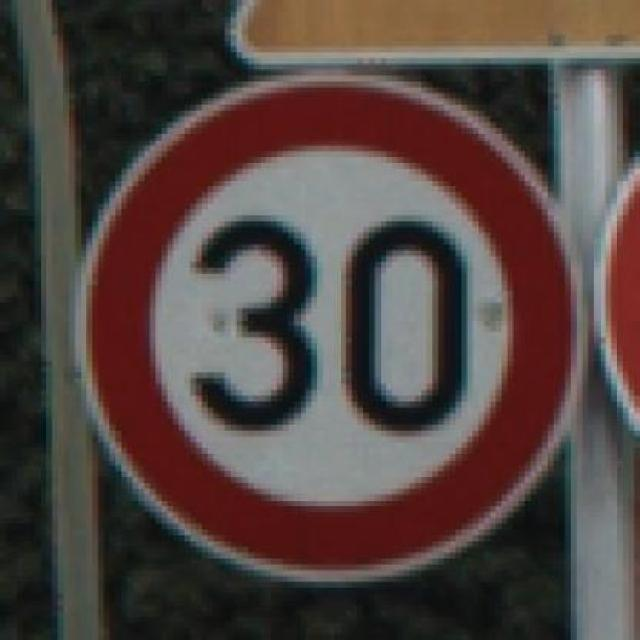Speed Limit 30 KMPh: (28, 70, 594, 599)
